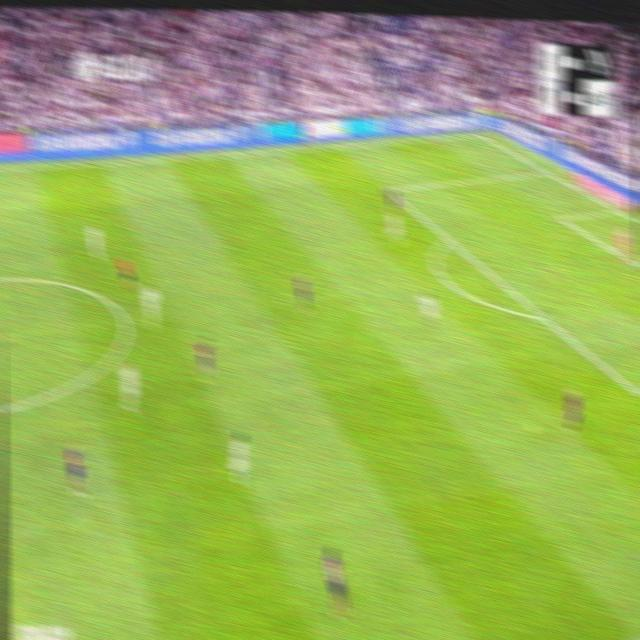bigarea_top_inner: (383, 181, 394, 196)
bigarea_top_outter: (538, 163, 554, 178)
bottom_arc_area_intersection: (534, 305, 549, 325)
corner: (474, 127, 486, 138)
smallarea_top_inner: (558, 211, 566, 223)
top_arc_area_intersection: (442, 228, 455, 246)
